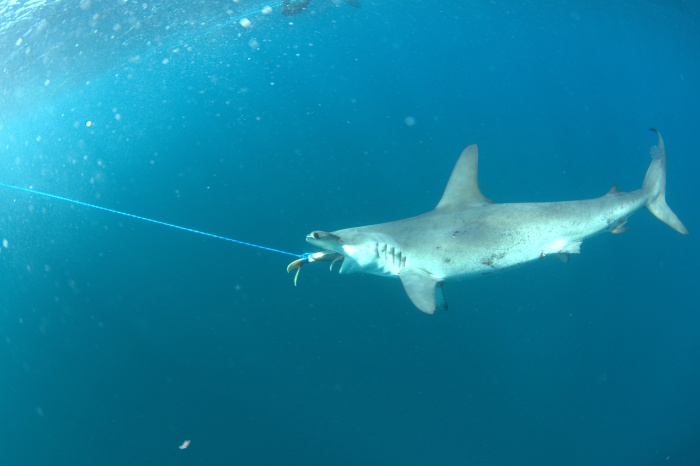Hammer: (292, 106, 700, 356), (270, 121, 700, 339), (157, 241, 358, 368)
